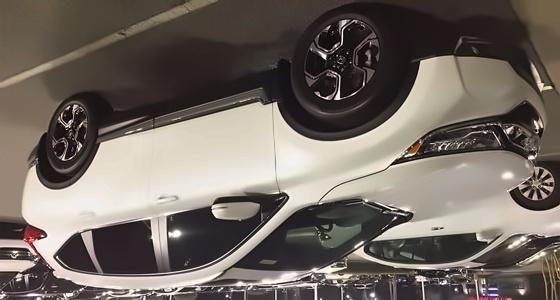Car hood: (316, 145, 540, 225)
Fender - -F-L-: (270, 89, 430, 213)
Fender - -R-L-: (27, 185, 74, 234)
Front bumper: (409, 16, 553, 114)
Headlight - -L-: (388, 114, 510, 170)
Passenger-s door - -F-L-: (156, 96, 280, 290)
Passenger-s door - -R-L-: (66, 122, 158, 294)
Rear bumper: (23, 126, 55, 195)
Rear light - -L-: (19, 220, 62, 272)
Side bumper - -L-: (79, 85, 277, 151)
Side mirror - -L-: (208, 189, 269, 234)
